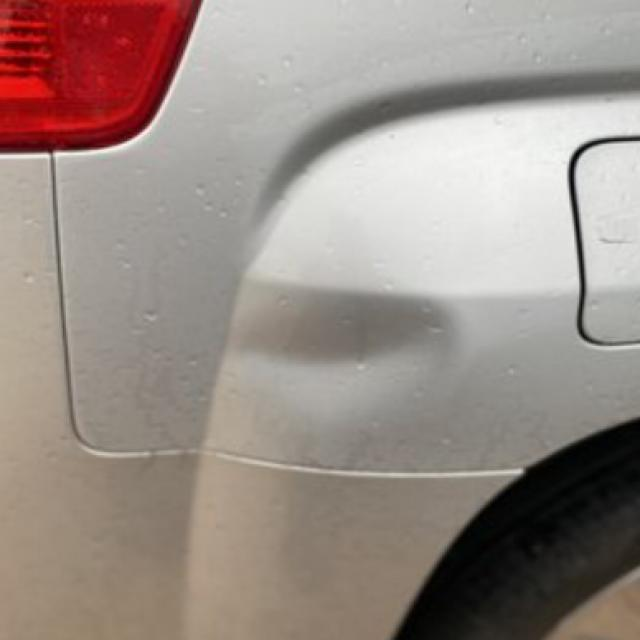dents: (217, 241, 500, 436)
